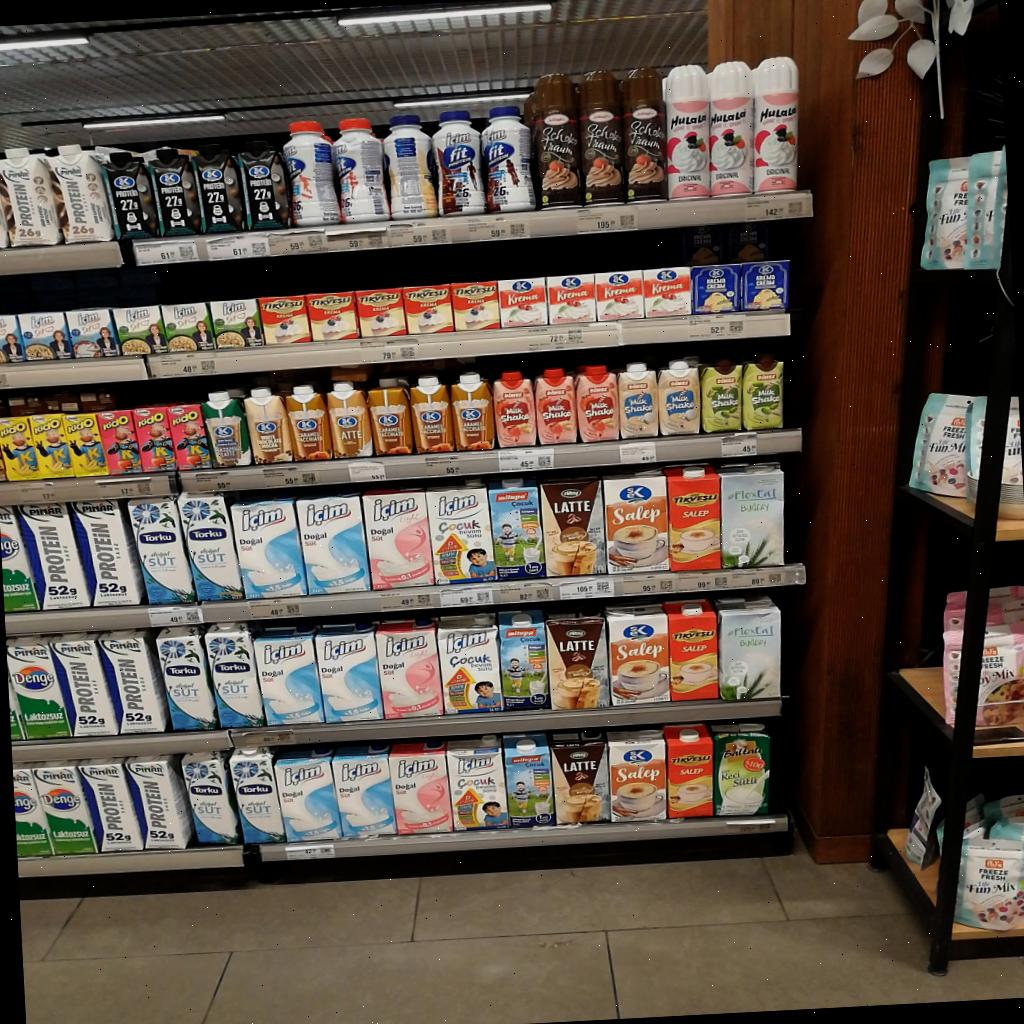price_tag: (13, 766, 53, 857), (207, 233, 270, 260), (134, 239, 198, 265), (468, 216, 528, 242), (268, 229, 326, 255), (578, 208, 636, 233), (387, 223, 449, 246), (497, 447, 554, 472), (327, 228, 387, 251), (150, 354, 206, 378), (529, 328, 585, 352), (261, 464, 317, 487), (3, 482, 58, 505), (560, 577, 614, 600), (499, 581, 552, 604), (97, 478, 152, 499), (746, 194, 790, 220), (149, 606, 203, 627), (247, 598, 301, 619), (232, 730, 297, 747), (440, 587, 494, 607), (373, 339, 419, 362), (194, 469, 234, 492), (631, 574, 675, 594), (722, 432, 757, 457), (620, 441, 656, 465), (424, 454, 465, 475), (689, 316, 726, 339), (285, 842, 335, 859), (348, 460, 386, 482), (726, 819, 773, 833), (730, 570, 766, 588), (394, 593, 431, 609), (120, 479, 152, 497), (680, 576, 713, 592), (788, 198, 806, 218), (705, 575, 730, 589), (725, 318, 745, 335), (766, 571, 783, 586), (0, 373, 10, 388)
product: (438, 610, 550, 713), (69, 501, 145, 607), (18, 504, 92, 610), (231, 498, 308, 598), (297, 491, 371, 594), (427, 479, 497, 585), (128, 497, 197, 604), (714, 593, 781, 701), (178, 492, 244, 601), (99, 631, 169, 733), (363, 490, 434, 590), (253, 628, 325, 726), (719, 463, 785, 568), (50, 637, 120, 736), (603, 470, 670, 573), (6, 638, 73, 739), (376, 617, 443, 718), (156, 626, 220, 731), (533, 74, 583, 208), (539, 478, 607, 576), (316, 622, 382, 722), (205, 622, 266, 728), (606, 604, 670, 705), (706, 62, 753, 196), (753, 57, 799, 193), (127, 756, 194, 849), (275, 747, 341, 841), (50, 145, 113, 243), (578, 71, 624, 205), (620, 68, 666, 201), (0, 149, 63, 246), (332, 743, 396, 838), (664, 65, 709, 200), (546, 613, 609, 709), (283, 121, 340, 227), (488, 476, 546, 580), (79, 759, 144, 851), (447, 735, 509, 831), (389, 741, 452, 835), (334, 118, 390, 223), (33, 765, 98, 855), (433, 110, 487, 216), (663, 600, 719, 701), (482, 106, 535, 212), (384, 116, 438, 220), (666, 466, 720, 570), (551, 732, 611, 824), (711, 723, 770, 815), (229, 748, 286, 843), (183, 753, 242, 844), (608, 730, 666, 822), (103, 152, 159, 239), (504, 733, 555, 827), (238, 140, 290, 231), (664, 724, 714, 817), (150, 148, 202, 236), (193, 144, 244, 232), (0, 508, 40, 612), (202, 390, 251, 467), (286, 384, 332, 461), (368, 379, 413, 455), (246, 388, 291, 464), (327, 383, 373, 457), (493, 371, 537, 447), (576, 365, 619, 442), (410, 377, 454, 452), (742, 354, 784, 430), (535, 368, 577, 444), (452, 374, 494, 450), (658, 360, 700, 435), (619, 363, 659, 439), (166, 404, 212, 470), (701, 360, 742, 432), (96, 410, 142, 474), (64, 413, 109, 476), (30, 413, 73, 478), (134, 406, 176, 472), (209, 299, 264, 348), (162, 302, 216, 351), (18, 311, 73, 359), (67, 309, 120, 358), (307, 291, 358, 341), (114, 305, 167, 353), (0, 418, 40, 481), (403, 285, 454, 334), (356, 288, 405, 338), (451, 281, 500, 331), (547, 274, 596, 324), (259, 297, 310, 345), (595, 270, 643, 321), (499, 277, 547, 327), (741, 261, 789, 310), (644, 268, 691, 318), (692, 266, 739, 314), (0, 314, 25, 362), (0, 178, 11, 248)
